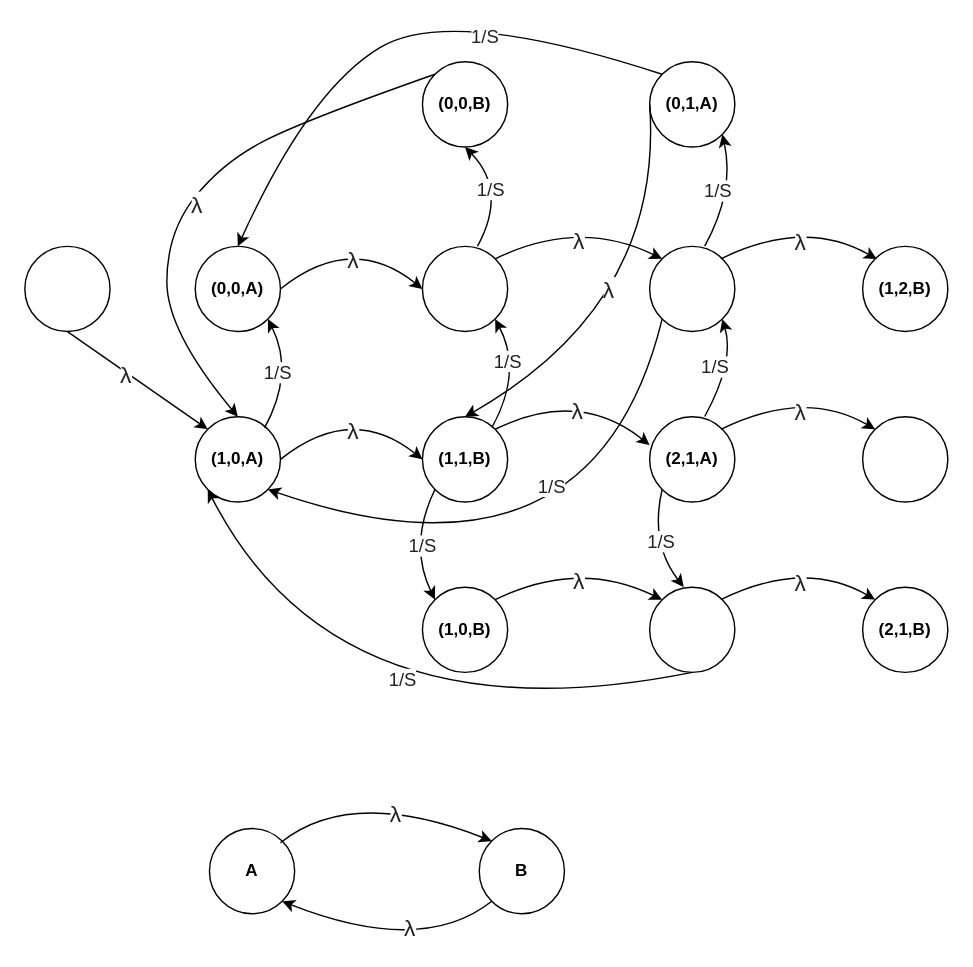
This 973x967 diagram has some shape labels left out. Each missing label, with the centre of its shape:
(0,1,B): pixel 464 288
(1,1,A): pixel 691 288
(2,0,A): pixel 691 629
(2,2,B): pixel 904 458
Start: pixel 66 288
